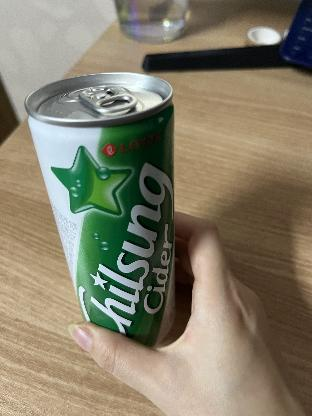Can: (26, 71, 178, 351)
